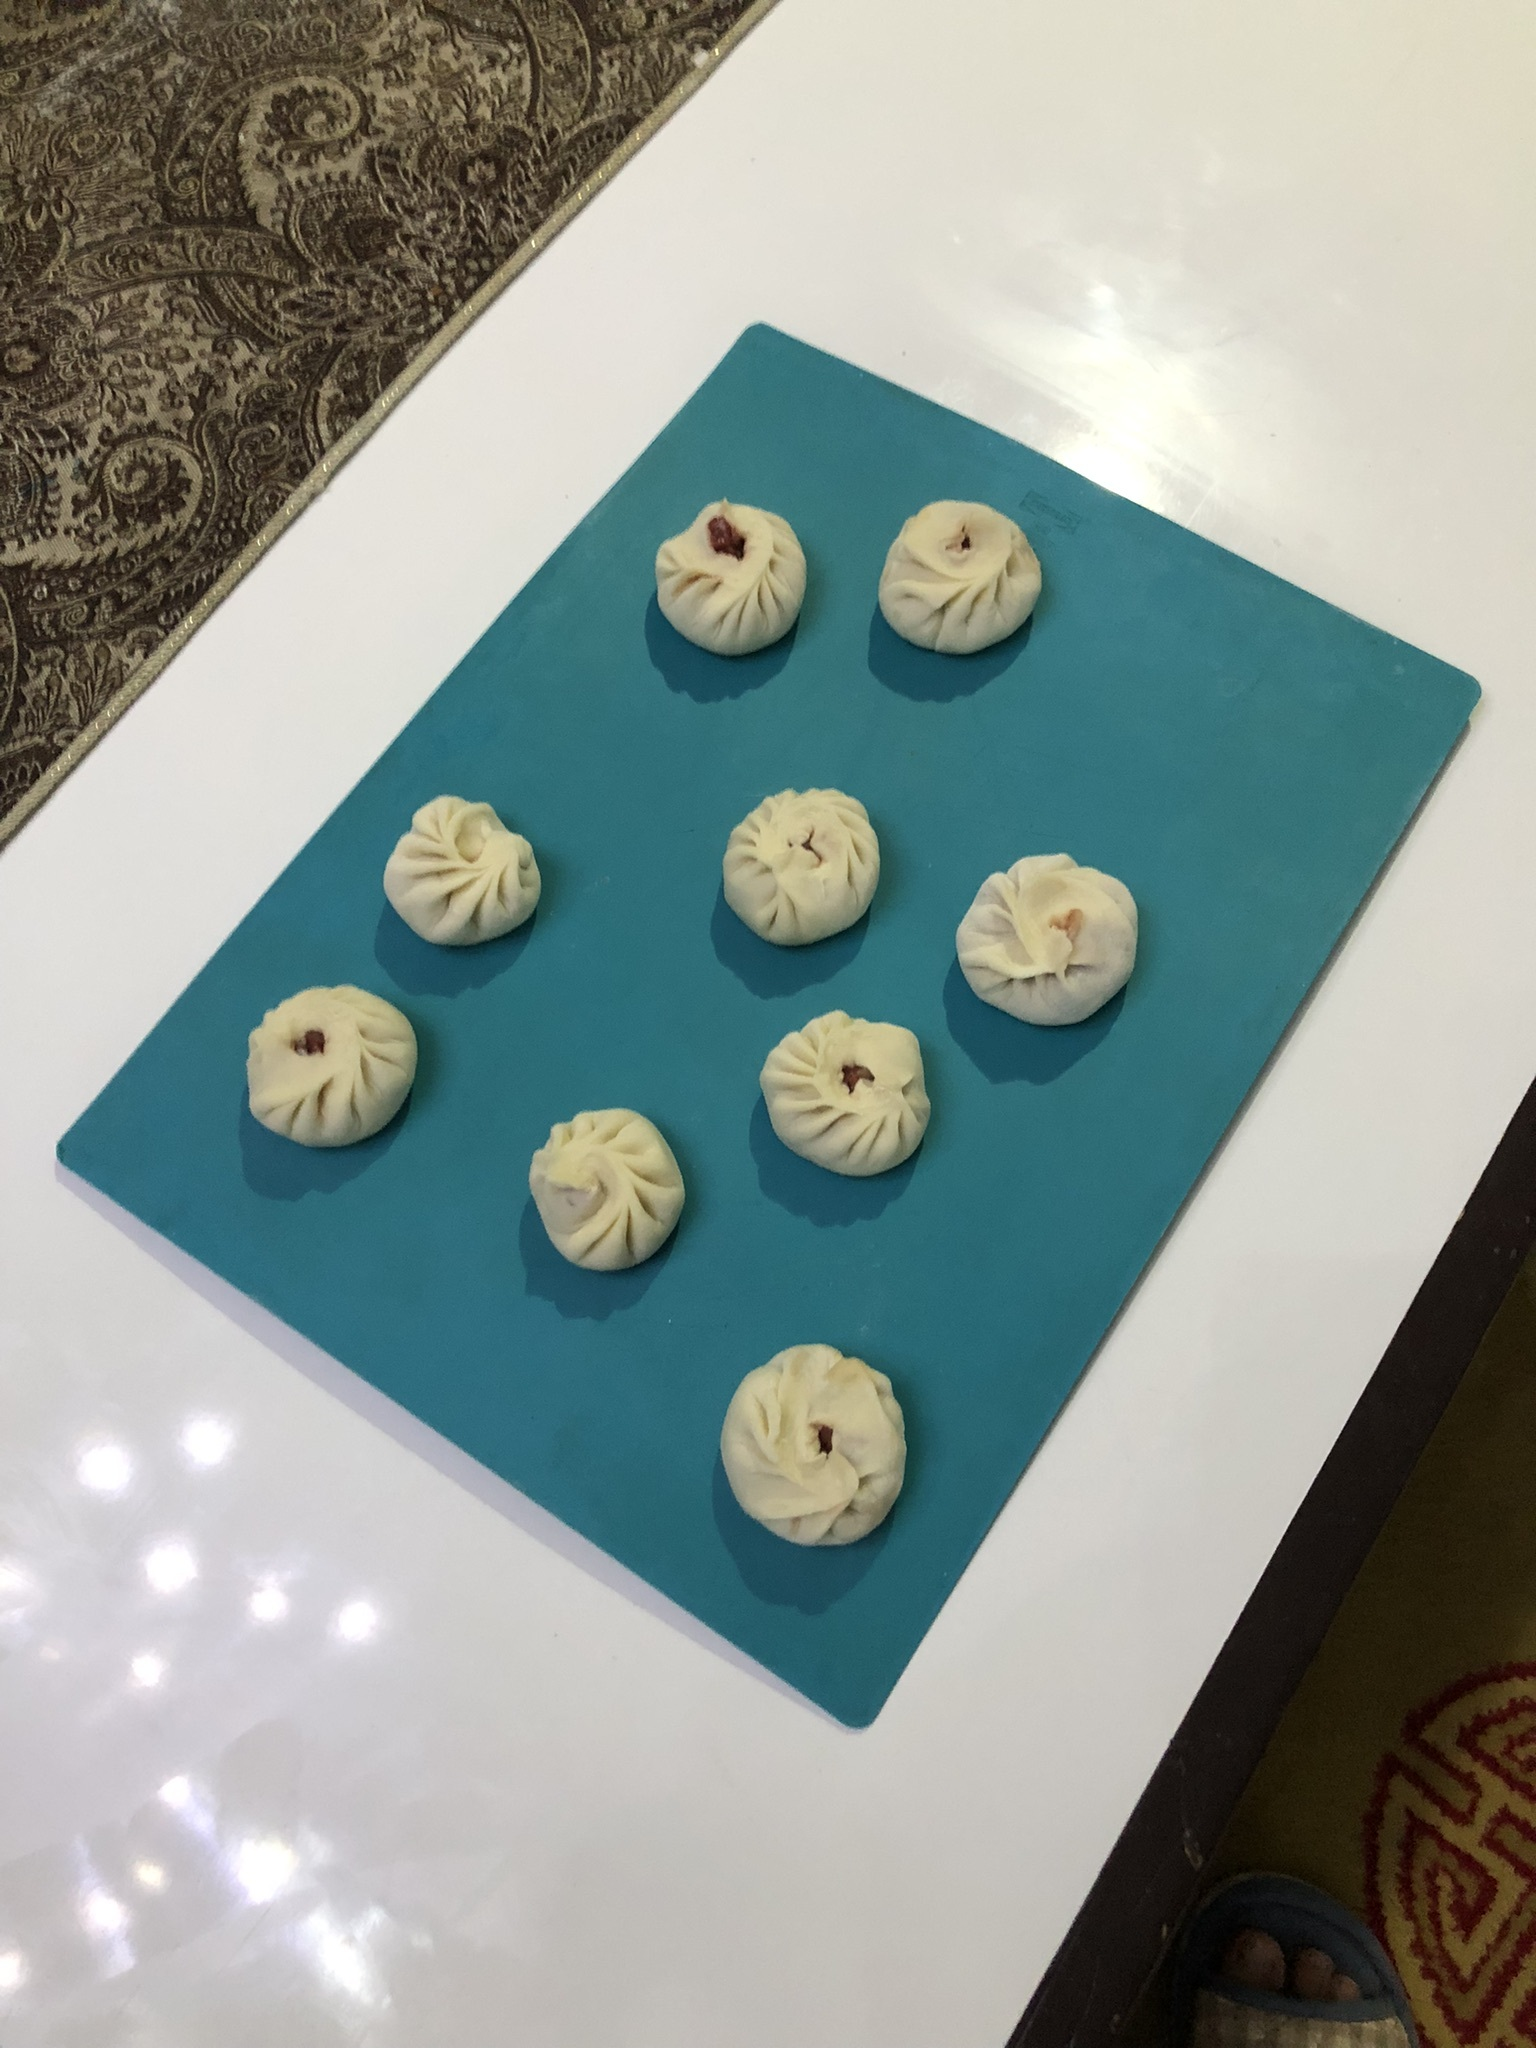buuz: (712, 1337, 920, 1556), (949, 847, 1150, 1034), (236, 972, 424, 1163), (750, 1003, 936, 1188), (868, 493, 1058, 666), (521, 1098, 692, 1280), (716, 777, 892, 951), (645, 493, 820, 666), (374, 789, 547, 955)
